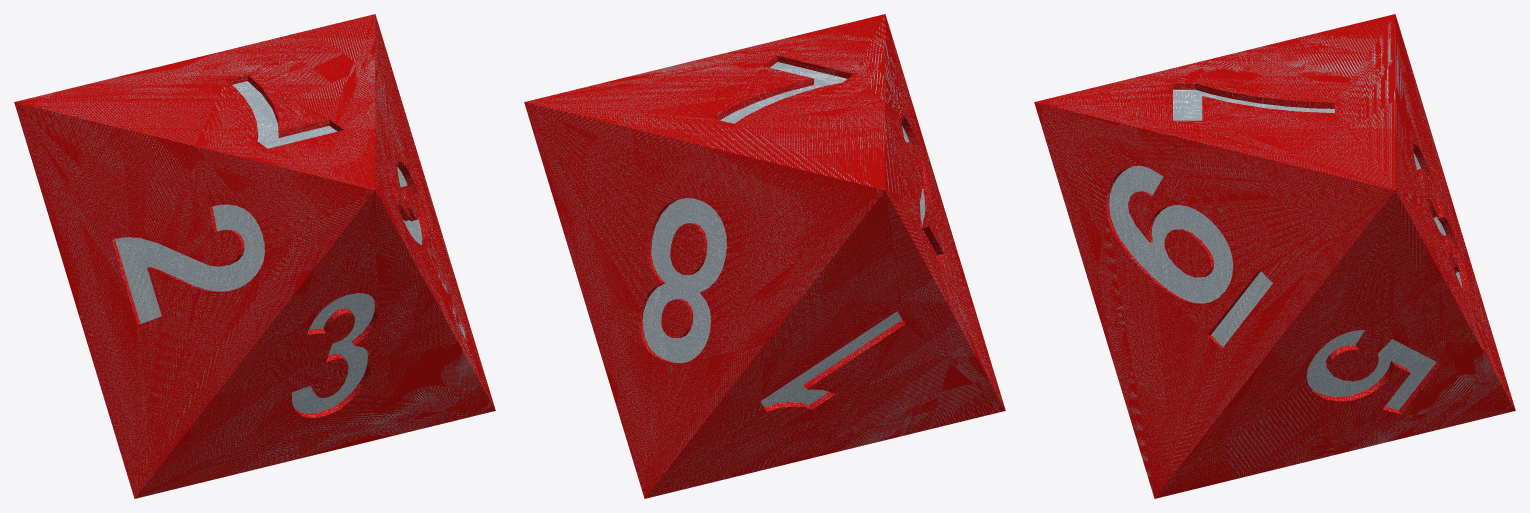
The model's file is Boardgame_D8_Red_01.fbx.
3 views of the same model, side by side, from view 1: azimuth 30°, elevation 25°; view 2: azimuth 150°, elevation 25°; view 3: azimuth 270°, elevation 25° (orthographic).
Parts seen in each view (by area): view 1: Model; view 2: Model; view 3: Model.
Boxes of the visible parts, x1,y1,x2,y2 form: Model: (14, 14, 495, 498); Model: (524, 14, 1005, 498); Model: (1034, 14, 1515, 498).
Size of the model in its own units: 162 by 132 by 186.
